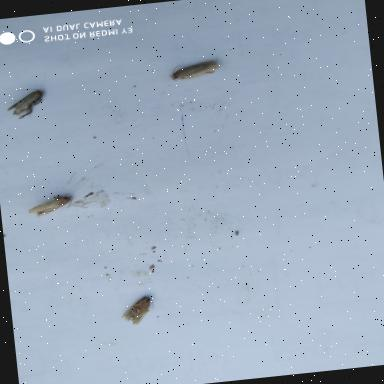pbw: (3, 85, 48, 122), (168, 56, 224, 84), (24, 192, 76, 220), (118, 294, 157, 328)
